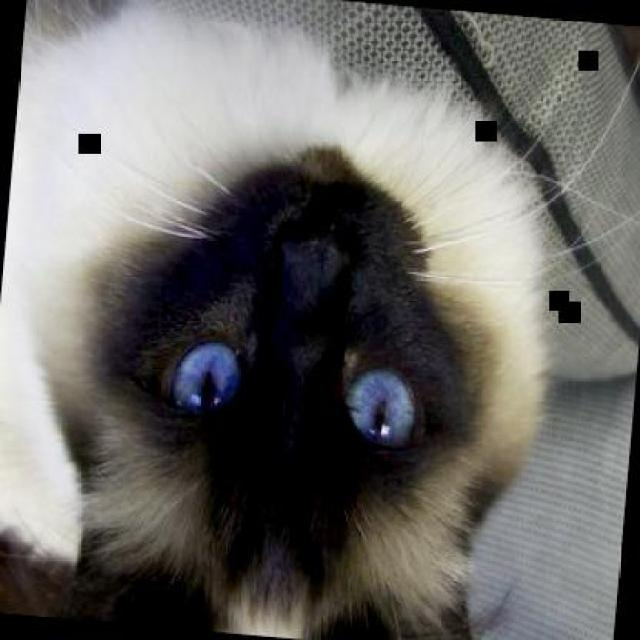cat: (0, 0, 578, 638)
